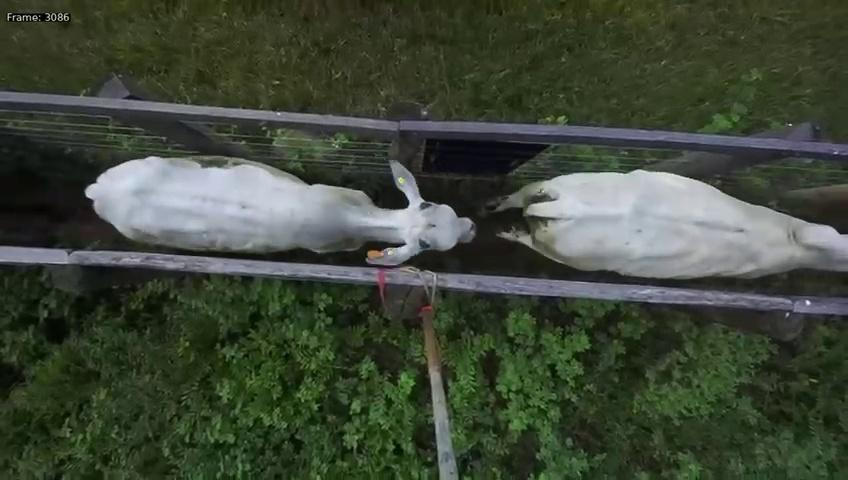cattle: (79, 143, 474, 265), (487, 158, 848, 280)
